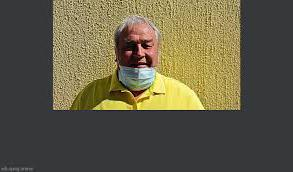mask_weared_incorrect: (118, 37, 155, 76)
